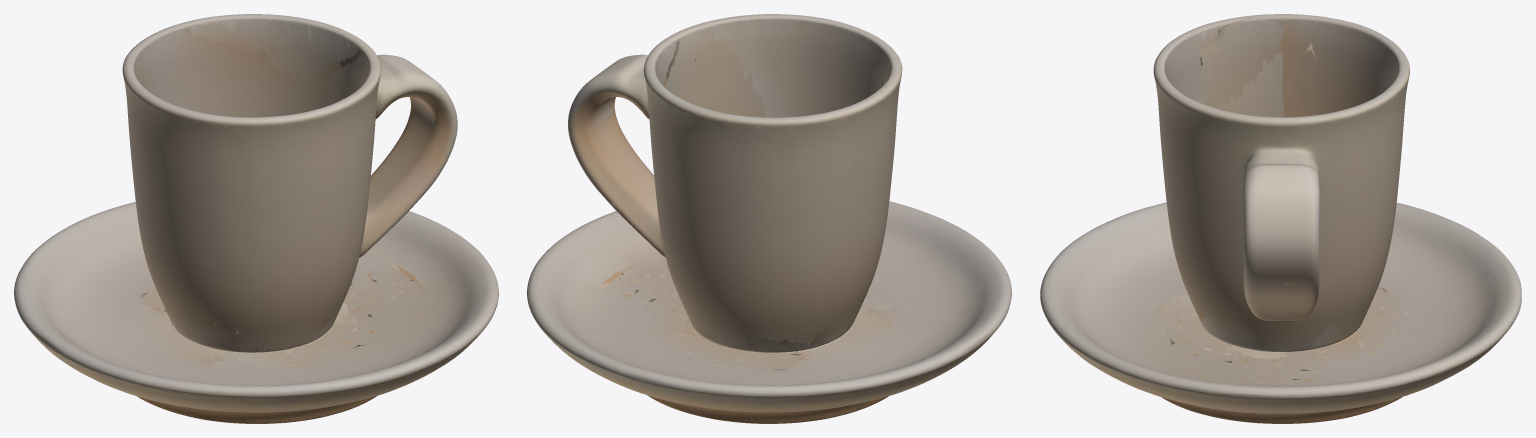
Rendered from foodify-mug-s30.glb.
3 renders of one model, left to right at view 1: azimuth 30°, elevation 25°; view 2: azimuth 150°, elevation 25°; view 3: azimuth 270°, elevation 25°, orthographic.
Parts seen in each view (by area): view 1: texture_pbr_v128; view 2: texture_pbr_v128; view 3: texture_pbr_v128.
Boxes of the visible parts, left/top/right/bottom form: texture_pbr_v128: left=14, top=14, right=498, bottom=423; texture_pbr_v128: left=527, top=14, right=1011, bottom=423; texture_pbr_v128: left=1040, top=14, right=1521, bottom=423.
Bounding box in the file's own units: 0.1683 × 0.1143 × 0.1683.
Materials: 1 (1 with a texture image).
